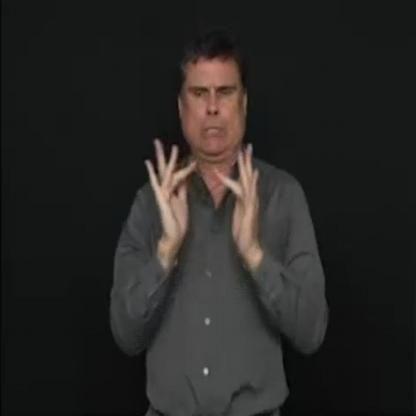Internet: (135, 132, 272, 265)
